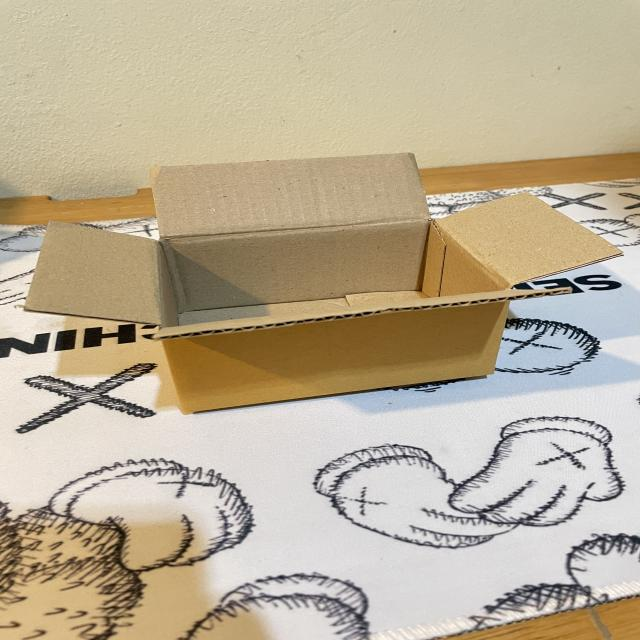box: (22, 152, 627, 417)
opened: (23, 153, 627, 342)
